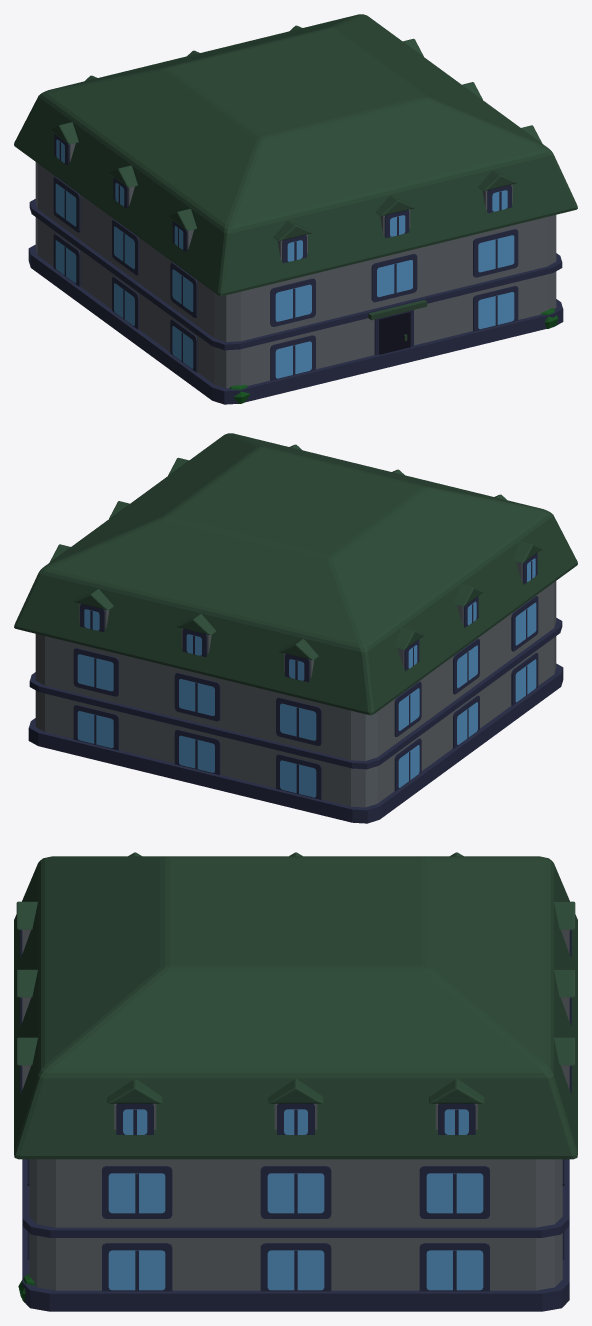
File: house-2x2-2f-mansard-d.glb
3 views of the same model, one above another, from view 1: azimuth 30°, elevation 25°; view 2: azimuth 150°, elevation 25°; view 3: azimuth 270°, elevation 25° (orthographic). The views are drawn at different scales.
Visible parts, largest first — view 1: house-2x2-2f-mansard-d; view 2: house-2x2-2f-mansard-d; view 3: house-2x2-2f-mansard-d.
Boxes of the visible parts, bbox=[...] form: house-2x2-2f-mansard-d: bbox=[14, 14, 577, 404]; house-2x2-2f-mansard-d: bbox=[14, 433, 577, 823]; house-2x2-2f-mansard-d: bbox=[14, 852, 577, 1311].
Bounding box in the file's own units: 1.99 × 1.11 × 1.99.
Materials: 1 (1 with a texture image).
